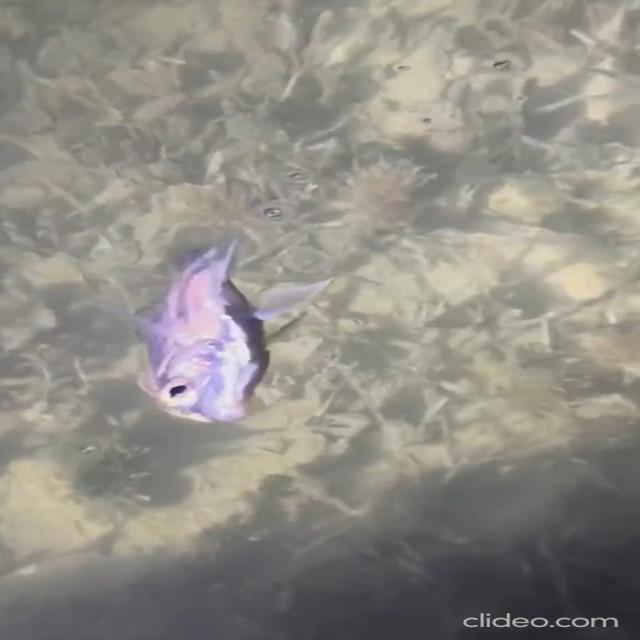fish: (124, 214, 296, 445)
